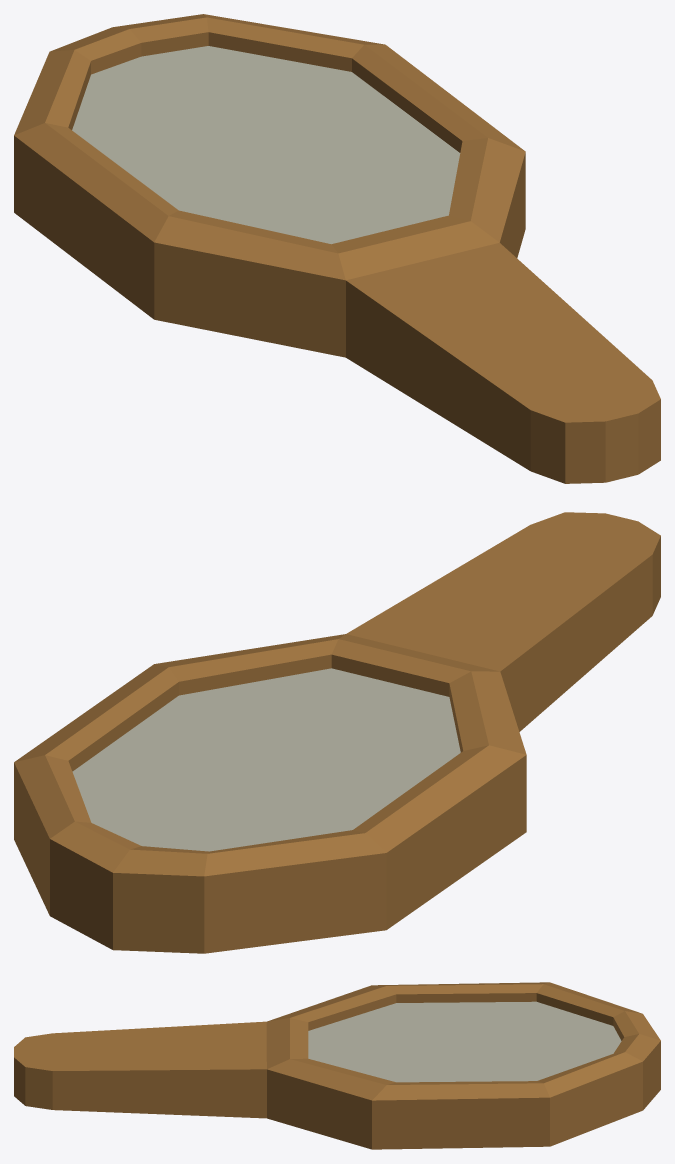
Rendered from Hand_Mirror.fbx.
3 renders of one model, top to bottom at view 1: azimuth 30°, elevation 25°; view 2: azimuth 150°, elevation 25°; view 3: azimuth 270°, elevation 25°, orthographic. The views are drawn at different scales.
Parts seen in each view (by area): view 1: Hand Mirror; view 2: Hand Mirror; view 3: Hand Mirror.
Boxes of the visible parts, left/top/right/bottom form: Hand Mirror: left=14, top=14, right=660, bottom=483; Hand Mirror: left=14, top=512, right=660, bottom=953; Hand Mirror: left=14, top=982, right=660, bottom=1149.
Bounding box in the file's own units: 15 × 3.82 × 35.55.
